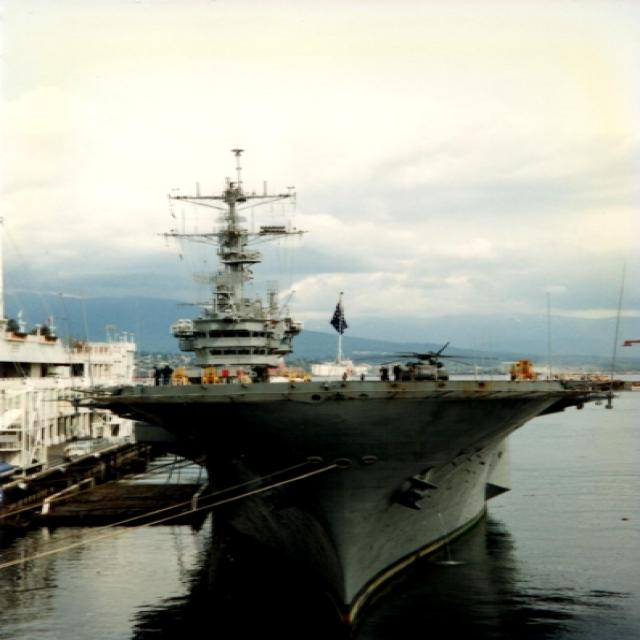Portanaves: (56, 108, 631, 628)
